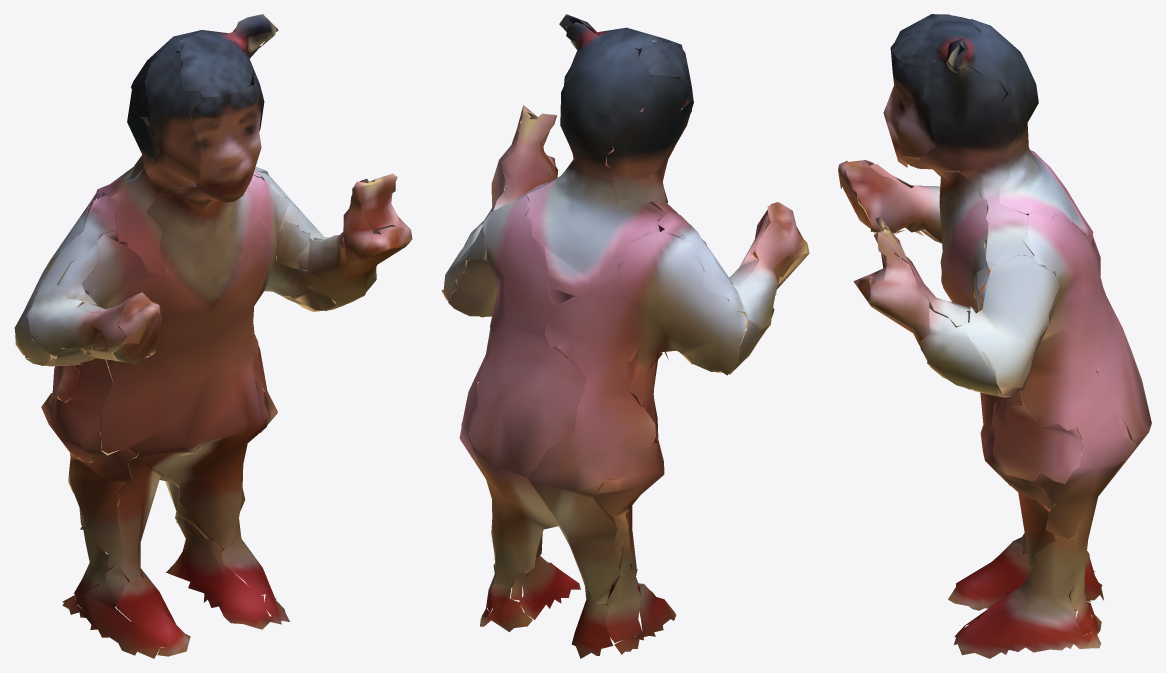
File: dollC.glb
3 renders of one model, left to right at view 1: azimuth 30°, elevation 25°; view 2: azimuth 150°, elevation 25°; view 3: azimuth 270°, elevation 25°, orthographic. The views are drawn at different scales.
Visible parts, largest first — view 1: Geom; view 2: Geom; view 3: Geom.
Part boxes in pixels (x1,y1,x2,y2): Geom: [14, 14, 412, 658]; Geom: [441, 14, 809, 658]; Geom: [838, 14, 1151, 658].
Size of the model in its own units: 0.0456 by 0.0811 by 0.0384.
Materials: 1 (1 with a texture image).
